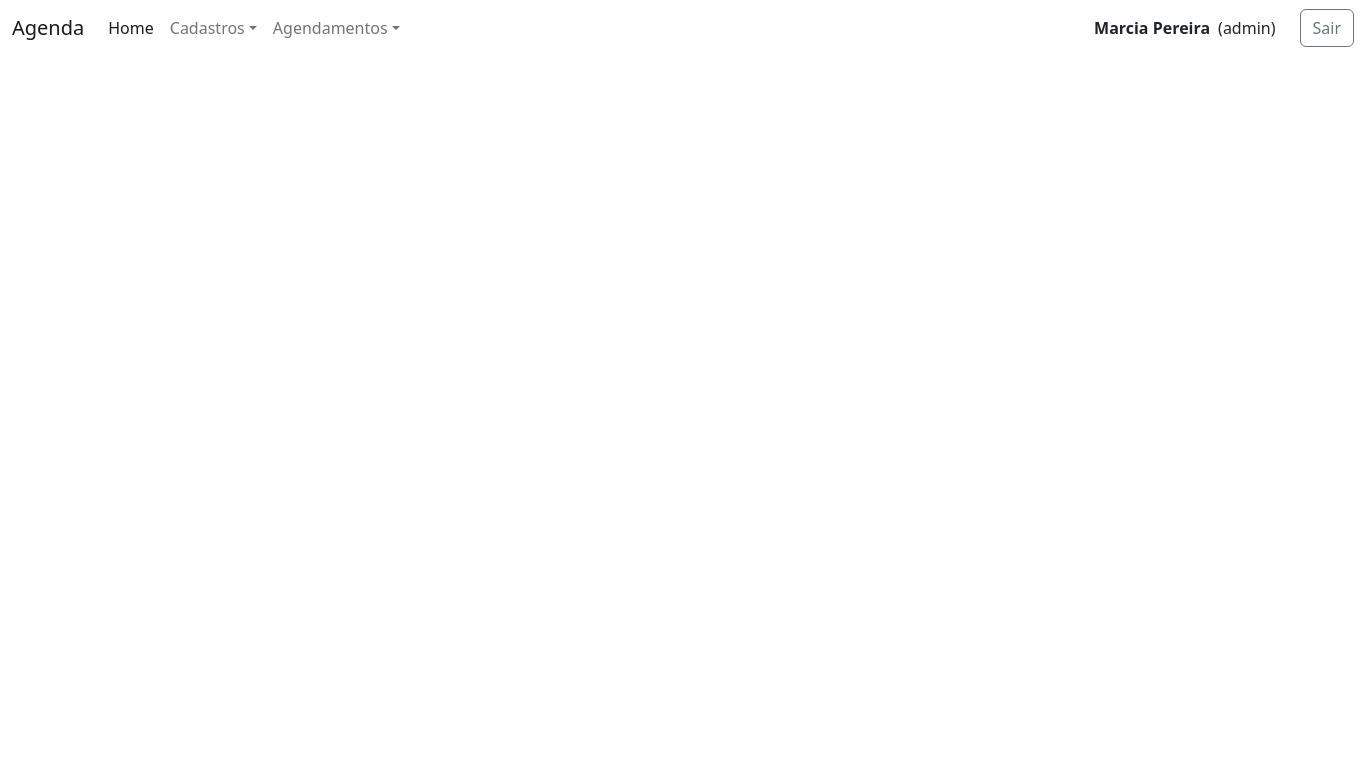
Home Page › Home Page: Cadastros->Agendar Should have Title: "Fazer um agendamento"
The image size is (1366, 768).
What coordinates should you click on to do the following:
click the button with id "navbarDropdownAgendamentos"
I would click on:
 (331, 28)
Its box is [273,17,388,39].
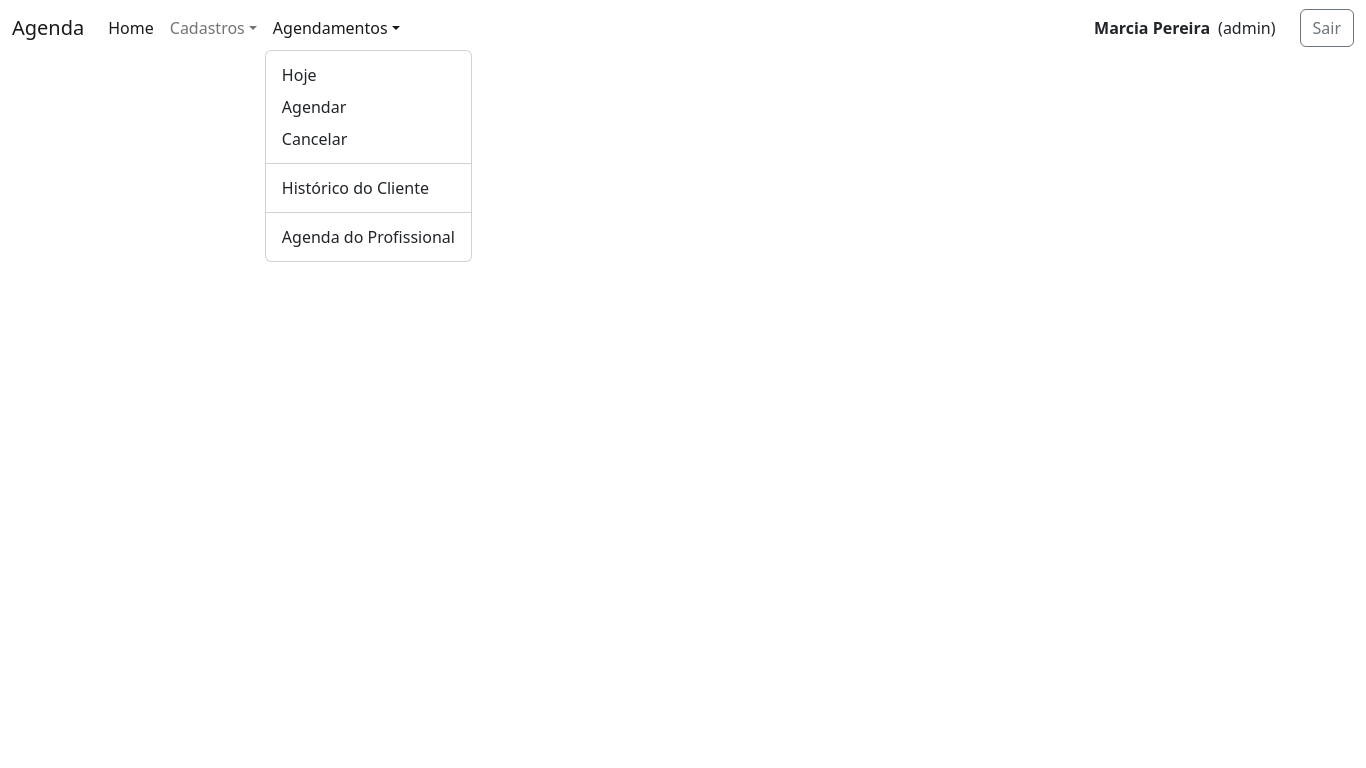
What coordinates should you click on to do the following:
click the link with id "navItemAgendar"
I would click on:
 (314, 107)
Its box is [282,96,346,118].
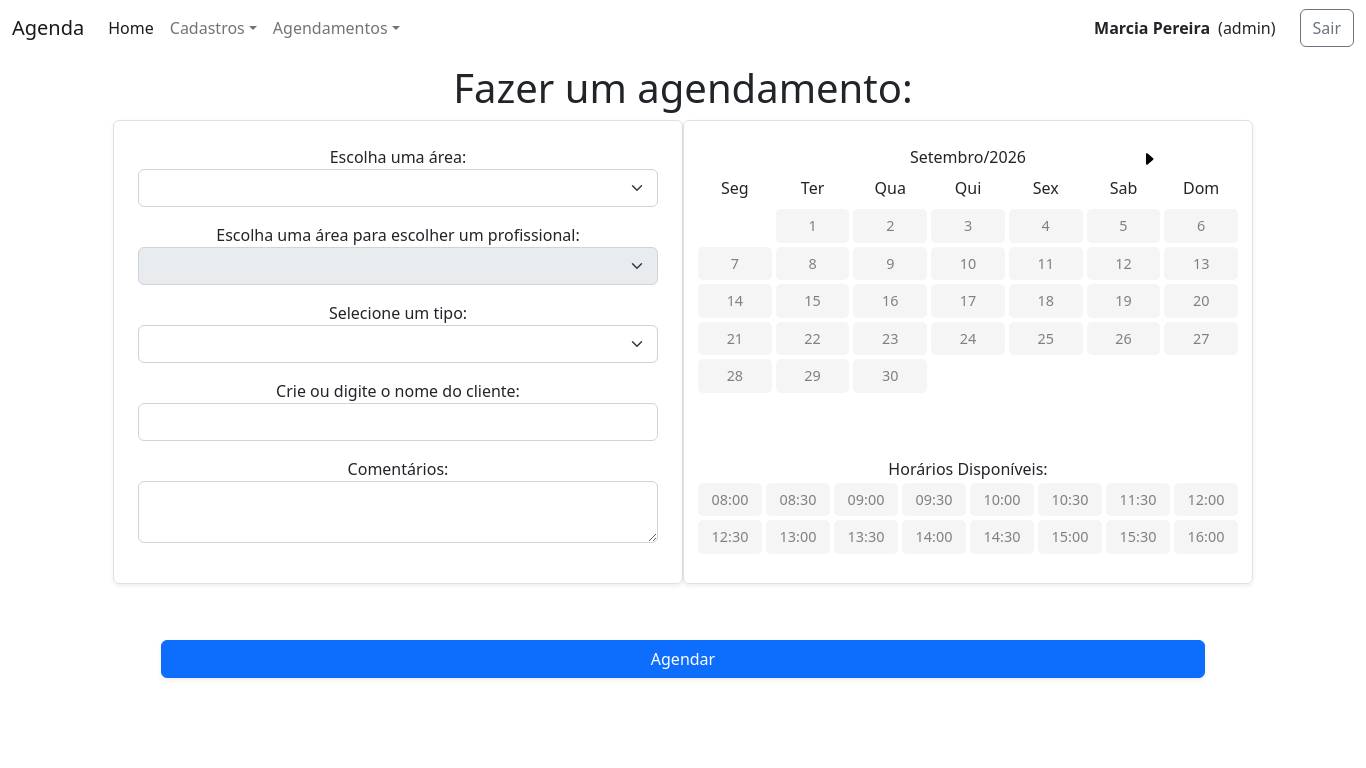
Check: the text "Fazer um agendamento" is shown, box [453,60,912,115]
